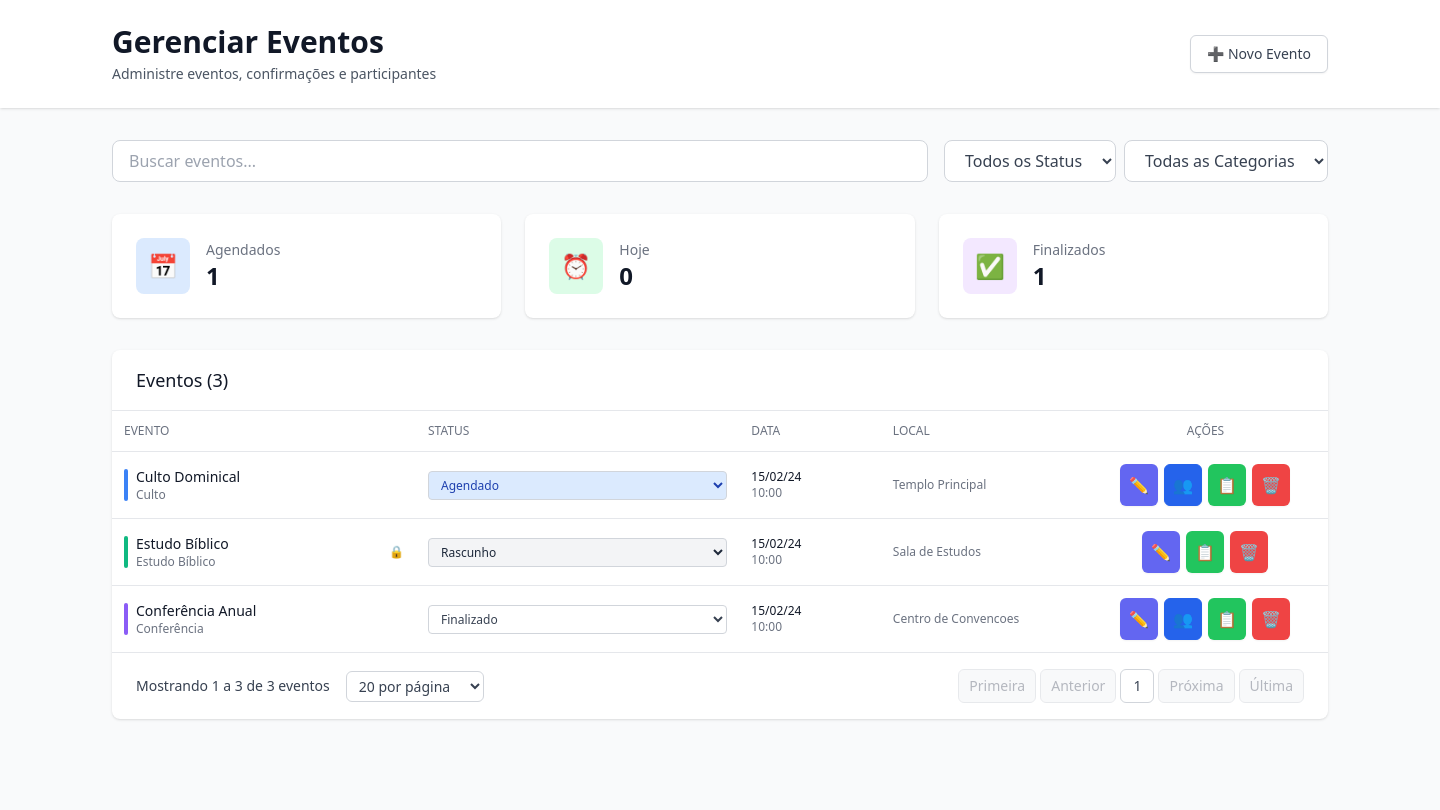
Test: AdminEventsManagementPage › Confirmations Modal › should display confirmations list
The width and height of the screenshot is (1440, 810).
Check: the text "Culto Dominical" is shown, box [136,467,240,486]
Click the button titled "Ver confirma" in the row of "Culto Dominical" at coordinates (1184, 485), box [1164,464,1202,506]
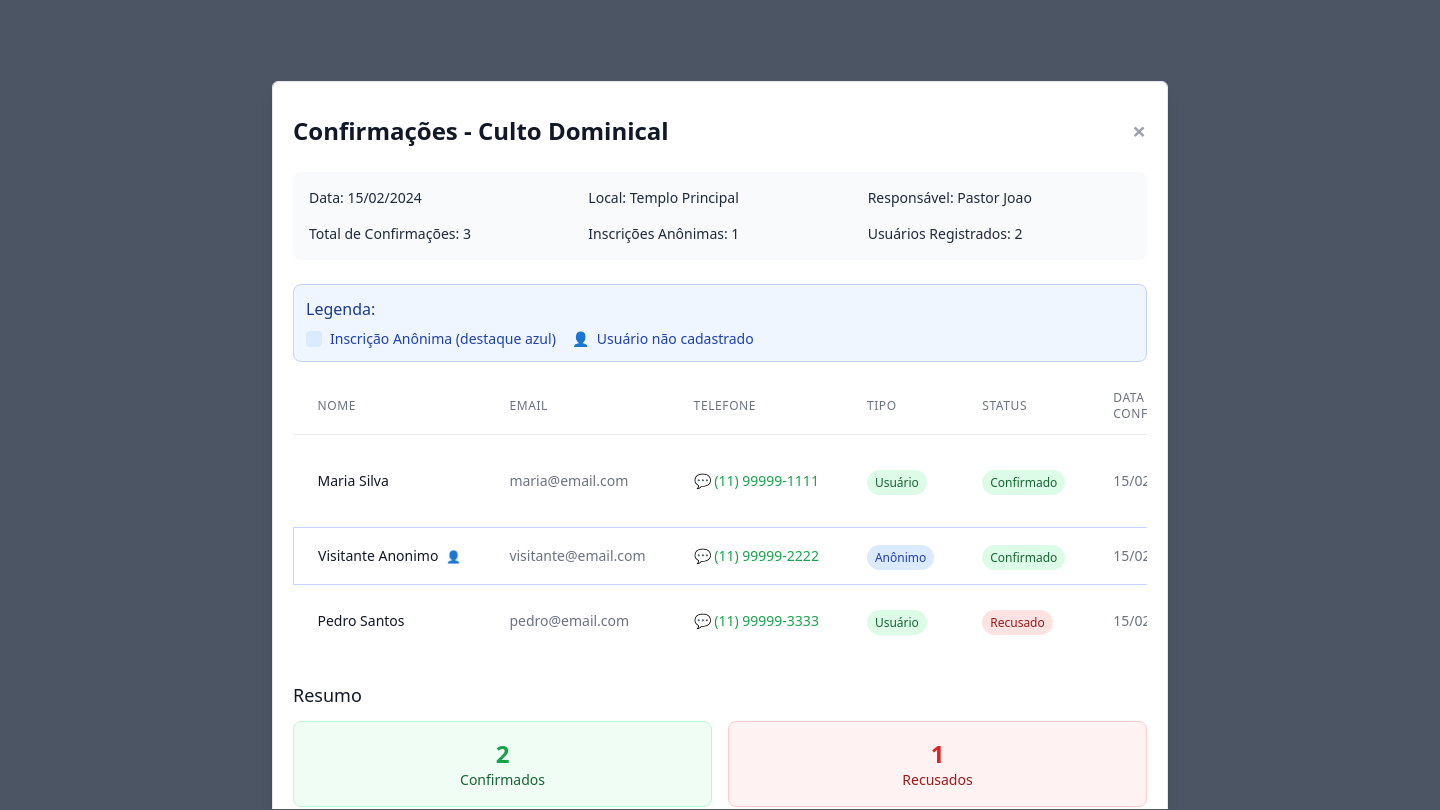
Check: the text "Maria Silva" is shown, box [294,434,485,528]
Check: the text "Pedro Santos" is shown, box [294,584,485,657]
Check: the text "Anônimo" is shown, box [867,545,934,570]
